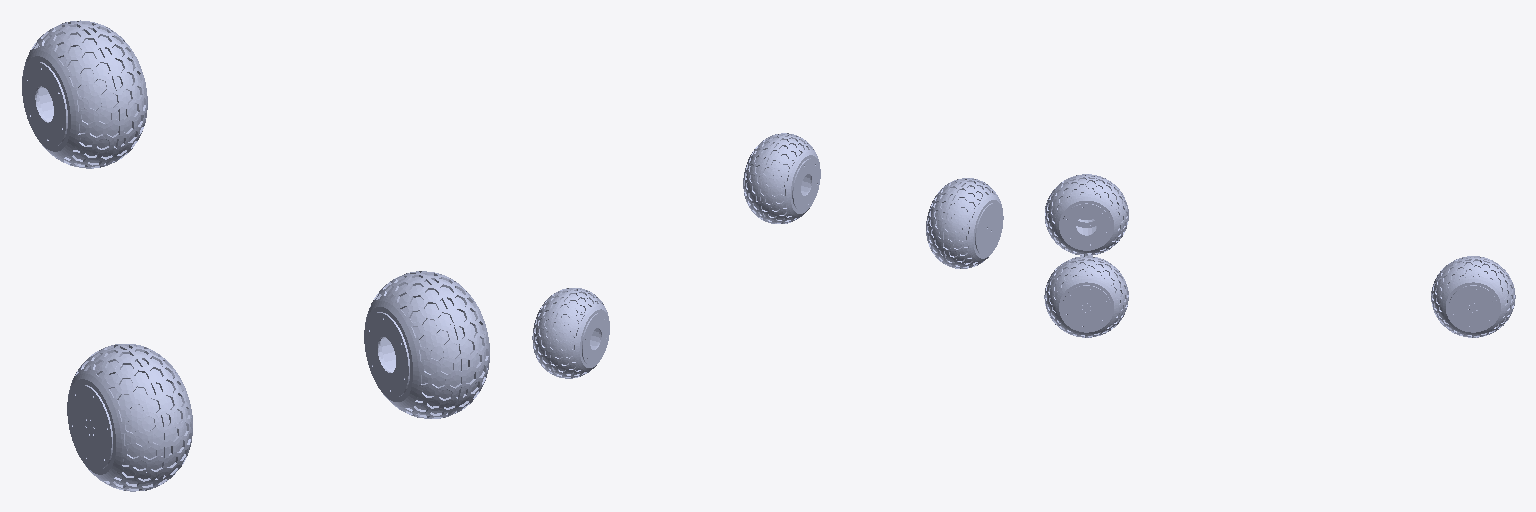
robot.urdf — Master_ASM:
<?xml version="1.0" encoding="utf-8"?>
<!-- This URDF was automatically created by SolidWorks to URDF Exporter! Originally created by [author] ([email redacted]) 
     Commit Version: 1.6.0-4-g7f85cfe  Build Version: 1.6.7995.38578
     For more information, please see http://wiki.ros.org/sw_urdf_exporter -->
<robot
  name="Master_ASM">
  <link
    name="base_link">
    <inertial>
      <origin
        xyz="0.0012829 -0.31468 -0.0059364"
        rpy="0 0 0" />
      <mass
        value="38.039" />
      <inertia
        ixx="0.51975"
        ixy="0.00069908"
        ixz="2.9544E-06"
        iyy="0.93889"
        iyz="-3.8081E-06"
        izz="0.5273" />
    </inertial>
    <visual>
      <origin
        xyz="0 0 0"
        rpy="0 0 0" />
      <geometry>
        <mesh
          filename="package://Master_ASM/meshes/base_link.STL" />
      </geometry>
      <material
        name="">
        <color
          rgba="0.79216 0.81961 0.93333 1" />
      </material>
    </visual>
    <collision>
      <origin
        xyz="0 0 -0.4"
        rpy="0 0 0" />
      <geometry>
        <box size="0.73 1.4 0.7" />
      </geometry>
    </collision>
  </link>
  <link
    name="swerve1_Link">
    <inertial>
      <origin
        xyz="0.072878 0.028694 7.0574E-06"
        rpy="0 0 0" />
      <mass
        value="2.5211" />
      <inertia
        ixx="0.008233"
        ixy="5.8978E-05"
        ixz="5.7912E-08"
        iyy="0.006818"
        iyz="1.2459E-07"
        izz="0.0069443" />
    </inertial>
    <visual>
      <origin
        xyz="0 0 0"
        rpy="0 0 0" />
      <geometry>
        <mesh
          filename="package://Master_ASM/meshes/swerve1_Link.STL" />
      </geometry>
      <material
        name="">
        <color
          rgba="0.75294 0.75294 0.75294 1" />
      </material>
    </visual>
    <!-- <collision>
      <origin
        xyz="0 0 0"
        rpy="0 0 0" />
      <geometry>
        <mesh
          filename="package://Master_ASM/meshes/swerve1_Link.STL" />
      </geometry>
    </collision> -->
  </link>
  <joint
    name="swerve1_joint"
    type="continuous">
    <origin
      xyz="-0.34701 0.55026 -0.59563"
      rpy="1.5708 0 0" />
    <parent
      link="base_link" />
    <child
      link="swerve1_Link" />
    <axis
      xyz="0 0 1" />
  </joint>
  <link
    name="wheel1_Link">
    <inertial>
      <origin
        xyz="2.9097E-09 -0.115 -0.00055956"
        rpy="0 0 0" />
      <mass
        value="1.1372" />
      <inertia
        ixx="0.0059462"
        ixy="1.6529E-09"
        ixz="-6.3363E-10"
        iyy="0.0059468"
        iyz="6.9163E-09"
        izz="0.0072591" />
    </inertial>
    <visual>
      <origin
        xyz="0 0 0"
        rpy="0 0 0" />
      <geometry>
        <mesh
          filename="package://Master_ASM/meshes/wheel1_Link.STL" />
      </geometry>
      <material
        name="">
        <color
          rgba="0.79216 0.81961 0.93333 1" />
      </material>
    </visual>
    <!-- <collision>
      <origin
        xyz="0 0 0"
        rpy="0 0 0" />
      <geometry>
        <mesh
          filename="package://Master_ASM/meshes/wheel1_Link.STL" />
      </geometry>
    </collision> -->
  </link>
  <joint
    name="wheel1_joint"
    type="continuous">
    <origin
      xyz="0.071447 0.038959 0.1082"
      rpy="1.5708 0.34561 1.5708" />
    <parent
      link="swerve1_Link" />
    <child
      link="wheel1_Link" />
    <axis
      xyz="0 0 1" />
  </joint>
  <link
    name="swerve2_Link">
    <inertial>
      <origin
        xyz="0.072878 0.028694 7.0574E-06"
        rpy="0 0 0" />
      <mass
        value="2.5211" />
      <inertia
        ixx="0.008233"
        ixy="5.8978E-05"
        ixz="5.7912E-08"
        iyy="0.006818"
        iyz="1.2459E-07"
        izz="0.0069443" />
    </inertial>
    <visual>
      <origin
        xyz="0 0 0"
        rpy="0 0 0" />
      <geometry>
        <mesh
          filename="package://Master_ASM/meshes/swerve2_Link.STL" />
      </geometry>
      <material
        name="">
        <color
          rgba="0.75294 0.75294 0.75294 1" />
      </material>
    </visual>
    <!-- <collision>
      <origin
        xyz="0 0 0"
        rpy="0 0 0" />
      <geometry>
        <mesh
          filename="package://Master_ASM/meshes/swerve2_Link.STL" />
      </geometry>
    </collision> -->
  </link>
  <joint
    name="swerve2_joint"
    type="continuous">
    <origin
      xyz="0.34701 -0.55026 -0.59563"
      rpy="1.5708 0 3.1416" />
    <parent
      link="base_link" />
    <child
      link="swerve2_Link" />
    <axis
      xyz="0 1 0" />
  </joint>
  <link
    name="wheel2_Link">
    <inertial>
      <origin
        xyz="2.9097E-09 -0.115 -0.00055956"
        rpy="0 0 0" />
      <mass
        value="1.1372" />
      <inertia
        ixx="0.0059462"
        ixy="1.6529E-09"
        ixz="-6.3363E-10"
        iyy="0.0059468"
        iyz="6.9163E-09"
        izz="0.0072591" />
    </inertial>
    <visual>
      <origin
        xyz="0 0 0"
        rpy="0 0 0" />
      <geometry>
        <mesh
          filename="package://Master_ASM/meshes/wheel2_Link.STL" />
      </geometry>
      <material
        name="">
        <color
          rgba="0.79216 0.81961 0.93333 1" />
      </material>
    </visual>
    <!-- <collision>
      <origin
        xyz="0 0 0"
        rpy="0 0 0" />
      <geometry>
        <mesh
          filename="package://Master_ASM/meshes/wheel2_Link.STL" />
      </geometry>
    </collision> -->
  </link>
  <joint
    name="wheel2_joint"
    type="continuous">
    <origin
      xyz="0.071447 0.038959 0.1082"
      rpy="1.5708 0.34561 1.5708" />
    <parent
      link="swerve2_Link" />
    <child
      link="wheel2_Link" />
    <axis
      xyz="0 0 1" />
  </joint>
  <link
    name="swerve3_Link">
    <inertial>
      <origin
        xyz="0.072878 0.028694 7.0574E-06"
        rpy="0 0 0" />
      <mass
        value="2.5211" />
      <inertia
        ixx="0.008233"
        ixy="5.8978E-05"
        ixz="5.7912E-08"
        iyy="0.006818"
        iyz="1.2459E-07"
        izz="0.0069443" />
    </inertial>
    <visual>
      <origin
        xyz="0 0 0"
        rpy="0 0 0" />
      <geometry>
        <mesh
          filename="package://Master_ASM/meshes/swerve3_Link.STL" />
      </geometry>
      <material
        name="">
        <color
          rgba="0.75294 0.75294 0.75294 1" />
      </material>
    </visual>
    <!-- <collision>
      <origin
        xyz="0 0 0"
        rpy="0 0 0" />
      <geometry>
        <mesh
          filename="package://Master_ASM/meshes/swerve3_Link.STL" />
      </geometry>
    </collision> -->
  </link>
  <joint
    name="swerve3_joint"
    type="continuous">
    <origin
      xyz="0.34701 0.55014 -0.59563"
      rpy="1.5708 0 3.1416" />
    <parent
      link="base_link" />
    <child
      link="swerve3_Link" />
    <axis
      xyz="0 0 1" />
  </joint>
  <link
    name="wheel3_Link">
    <inertial>
      <origin
        xyz="2.9097E-09 -0.115 -0.00055956"
        rpy="0 0 0" />
      <mass
        value="1.1372" />
      <inertia
        ixx="0.0059462"
        ixy="1.6529E-09"
        ixz="-6.3363E-10"
        iyy="0.0059468"
        iyz="6.9163E-09"
        izz="0.0072591" />
    </inertial>
    <visual>
      <origin
        xyz="0 0 0"
        rpy="0 0 0" />
      <geometry>
        <mesh
          filename="package://Master_ASM/meshes/wheel3_Link.STL" />
      </geometry>
      <material
        name="">
        <color
          rgba="0.79216 0.81961 0.93333 1" />
      </material>
    </visual>
    <!-- <collision>
      <origin
        xyz="0 0 0"
        rpy="0 0 0" />
      <geometry>
        <mesh
          filename="package://Master_ASM/meshes/wheel3_Link.STL" />
      </geometry>
    </collision> -->
  </link>
  <joint
    name="wheel3_joint"
    type="continuous">
    <origin
      xyz="0.071447 0.038959 0.1082"
      rpy="1.5708 0.34561 1.5708" />
    <parent
      link="swerve3_Link" />
    <child
      link="wheel3_Link" />
    <axis
      xyz="0 0 1" />
  </joint>
  <link
    name="swerve4_Link">
    <inertial>
      <origin
        xyz="0.072878 0.028694 7.0574E-06"
        rpy="0 0 0" />
      <mass
        value="2.5211" />
      <inertia
        ixx="0.008233"
        ixy="5.8978E-05"
        ixz="5.7912E-08"
        iyy="0.006818"
        iyz="1.2459E-07"
        izz="0.0069443" />
    </inertial>
    <visual>
      <origin
        xyz="0 0 0"
        rpy="0 0 0" />
      <geometry>
        <mesh
          filename="package://Master_ASM/meshes/swerve4_Link.STL" />
      </geometry>
      <material
        name="">
        <color
          rgba="0.75294 0.75294 0.75294 1" />
      </material>
    </visual>
    <!-- <collision>
      <origin
        xyz="0 0 0"
        rpy="0 0 0" />
      <geometry>
        <mesh
          filename="package://Master_ASM/meshes/swerve4_Link.STL" />
      </geometry>
    </collision> -->
  </link>
  <joint
    name="swerve4_joint"
    type="continuous">
    <origin
      xyz="-0.34701 -0.55014 -0.59563"
      rpy="1.5708 0 0" />
    <parent
      link="base_link" />
    <child
      link="swerve4_Link" />
    <axis
      xyz="0 0 1" />
  </joint>
  <link
    name="wheel4_Link">
    <inertial>
      <origin
        xyz="2.9097E-09 -0.115 -0.00055956"
        rpy="0 0 0" />
      <mass
        value="1.1372" />
      <inertia
        ixx="0.0059462"
        ixy="1.6529E-09"
        ixz="-6.3363E-10"
        iyy="0.0059468"
        iyz="6.9163E-09"
        izz="0.0072591" />
    </inertial>
    <visual>
      <origin
        xyz="0 0 0"
        rpy="0 0 0" />
      <geometry>
        <mesh
          filename="package://Master_ASM/meshes/wheel4_Link.STL" />
      </geometry>
      <material
        name="">
        <color
          rgba="0.79216 0.81961 0.93333 1" />
      </material>
    </visual>
    <!-- <collision>
      <origin
        xyz="0 0 0"
        rpy="0 0 0" />
      <geometry>
        <mesh
          filename="package://Master_ASM/meshes/wheel4_Link.STL" />
      </geometry>
    </collision> -->
  </link>
  <joint
    name="wheel4_joint"
    type="continuous">
    <origin
      xyz="0.071447 0.038959 0.1082"
      rpy="1.5708 0.34561 1.5708" />
    <parent
      link="swerve4_Link" />
    <child
      link="wheel4_Link" />
    <axis
      xyz="0 0 1" />
  </joint>
</robot>

--- Render facts (derived) ---
Views: 3 orthographic renders of the robot side by side, from view 1: azimuth 30°, elevation 25°; view 2: azimuth 150°, elevation 25°; view 3: azimuth 270°, elevation 25°.
Model Master_ASM with 9 links and 8 joints (8 continuous), rooted at base_link, posed every joint at zero.
Links seen in each view (by area): view 1: wheel3_Link, wheel4_Link, wheel2_Link; view 2: wheel2_Link, wheel3_Link, wheel4_Link; view 3: wheel3_Link, wheel2_Link, wheel4_Link.
Boxes of the visible links, x1,y1,x2,y2 form: wheel3_Link: (22, 20, 147, 168); wheel4_Link: (67, 344, 192, 491); wheel2_Link: (364, 271, 489, 418); wheel2_Link: (743, 133, 820, 223); wheel3_Link: (532, 288, 609, 378); wheel4_Link: (926, 178, 1003, 268); wheel3_Link: (1431, 256, 1515, 337); wheel2_Link: (1044, 256, 1128, 337); wheel4_Link: (1045, 174, 1128, 255).
Bounding box of the posed robot: 0.7004 × 1.34 × 0.2402 m (x, y, z).
Meshes: 9 distinct files referenced, 3 mesh visuals loaded (3 binary STL); not drawn: 6 (reference not matched to a file when rendering).